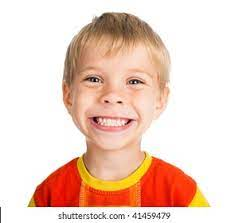person: (61, 10, 171, 152)
